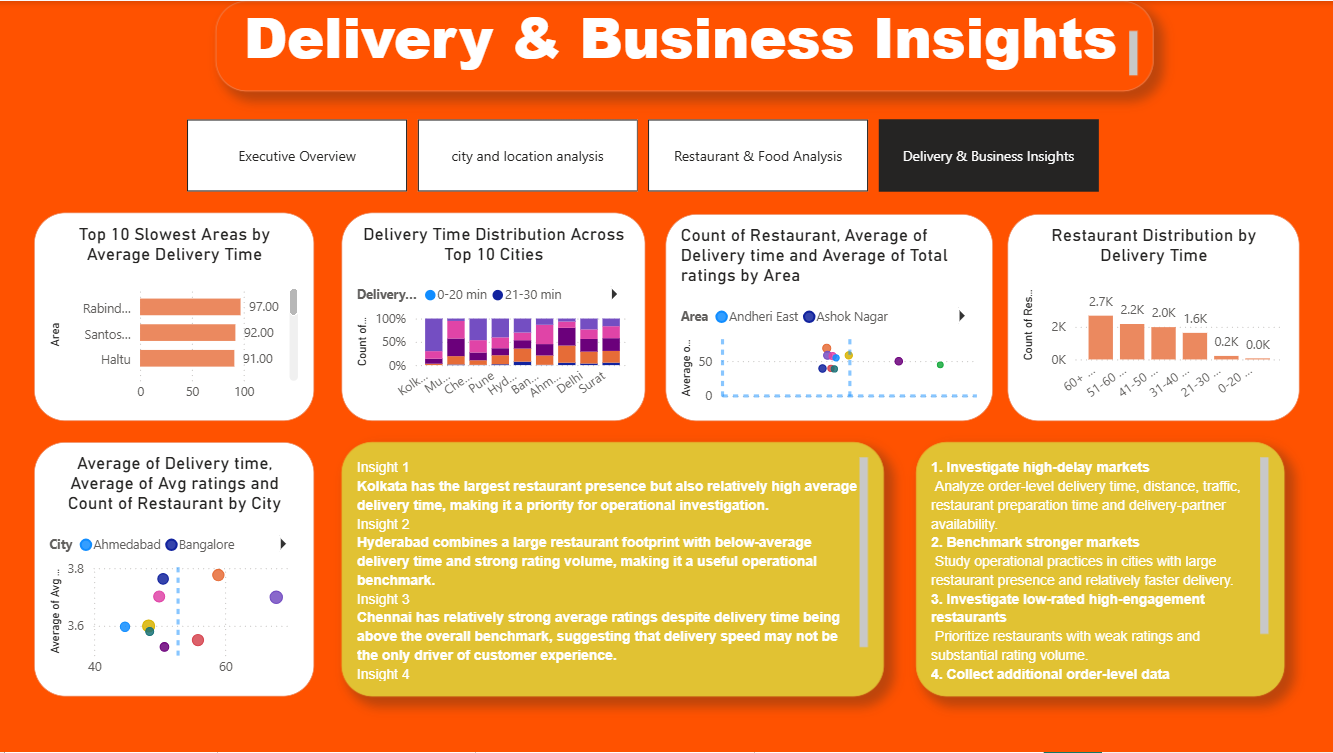

What the dashboard file says about the page in this screenshot:
{"tool":"powerbi","page":{"name":"Delivery & Business Insights","canvas":[1280,720],"ordinal":3},"visuals":[{"type":"clusteredColumnChart","title":"Restaurant Distribution by Delivery Time","fields":{"Category":["swiggy_data.Delivery Time Bucket"],"Y":["CountNonNull(swiggy_data.Restaurant)"]},"box":[967.6,204.1,279.7,198.4],"z":0},{"type":"textbox","box":[207.9,0,899.5,86.9],"z":1000},{"type":"hundredPercentStackedColumnChart","title":"Delivery Time Distribution Across Top 10 Cities","fields":{"Category":["swiggy_data.City"],"Series":["swiggy_data.Delivery Time Bucket"],"Y":["CountNonNull(swiggy_data.Restaurant)"]},"box":[328.8,202.2,291,200.3],"z":2000},{"type":"clusteredBarChart","title":"Top 10 Slowest Areas by Average Delivery Time","fields":{"Category":["swiggy_data.Area"],"Y":["Avg(swiggy_data.Delivery time)"]},"box":[34,202.2,268.3,200.3],"z":3000},{"type":"scatterChart","fields":{"X":["swiggy_data.Restaurant"],"Y":["Avg(swiggy_data.Delivery time)"],"Series":["swiggy_data.Area"],"Size":["Avg(swiggy_data.Total ratings)"]},"box":[640.6,204.1,313.7,198.4],"z":4000},{"type":"scatterChart","fields":{"X":["Avg(swiggy_data.Delivery time)"],"Y":["Avg(swiggy_data.Avg ratings)"],"Series":["swiggy_data.City"],"Size":["Count(swiggy_data.Restaurant)"]},"box":[34,423.3,268.3,243.8],"z":5000},{"type":"textbox","box":[328.8,423.3,519.7,243.8],"z":6000},{"type":"textbox","box":[880.6,423.3,353.4,243.8],"z":7000},{"type":"pageNavigator","box":[181.4,113.4,875,69.9],"z":8000}]}

Visuals, with their boxes in screenshot pixels (x1, y1, x2, y2), scaled from the page's 1280x720 canvas onto the 1333x753 screenshot:
"Restaurant Distribution by Delivery Time" clusteredColumnChart: (1008,213,1299,421)
textbox: (217,0,1153,91)
"Delivery Time Distribution Across Top 10 Cities" hundredPercentStackedColumnChart: (342,211,645,421)
"Top 10 Slowest Areas by Average Delivery Time" clusteredBarChart: (35,211,315,421)
scatterChart - swiggy_data.Restaurant x Avg(swiggy_data.Delivery time): (667,213,994,421)
scatterChart - Avg(swiggy_data.Delivery time) x Avg(swiggy_data.Avg ratings): (35,443,315,698)
textbox: (342,443,884,698)
textbox: (917,443,1285,698)
pageNavigator: (189,119,1100,192)
